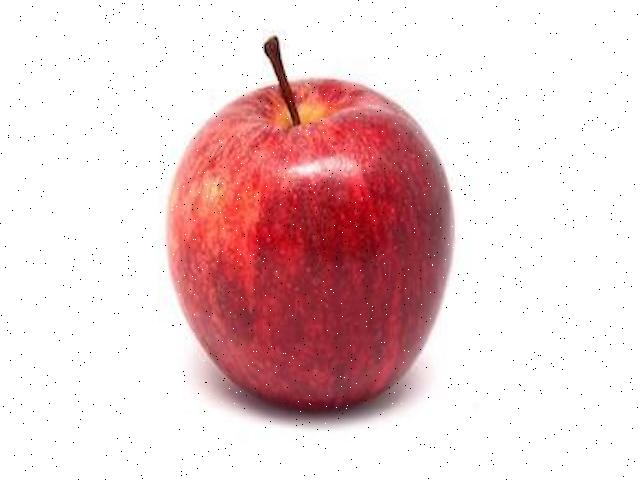apple: (160, 29, 460, 418)
